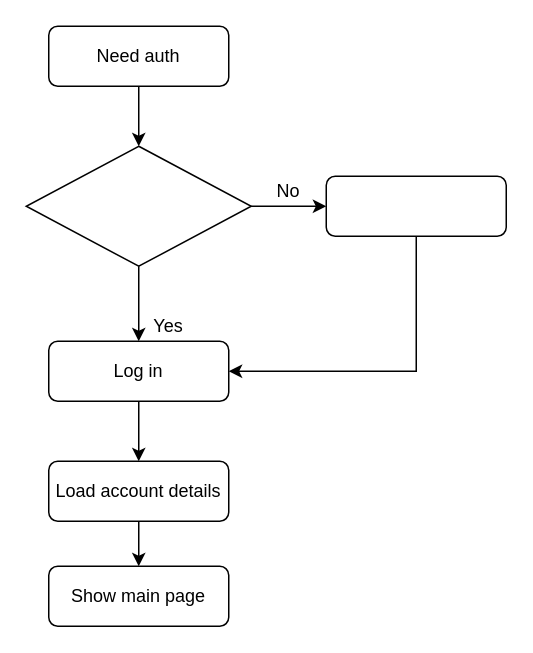
Some shapes in this 533 by 653 pixel diagram are drawn without their labels. Each missing label, with the box of its shape:
Are you signed?: (25, 145, 251, 266)
Sign up: (325, 175, 506, 236)
